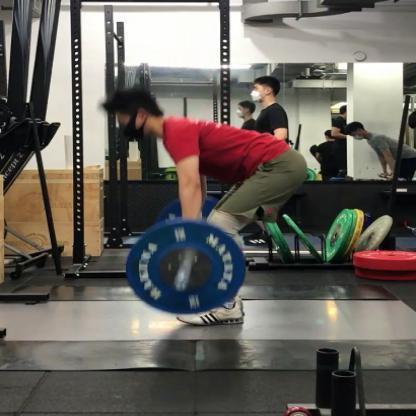barbell: (125, 218, 246, 317)
